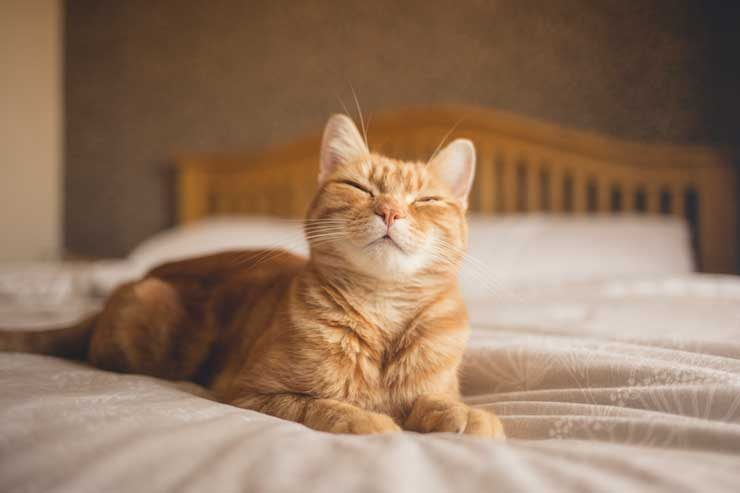cat: (108, 116, 506, 446)
